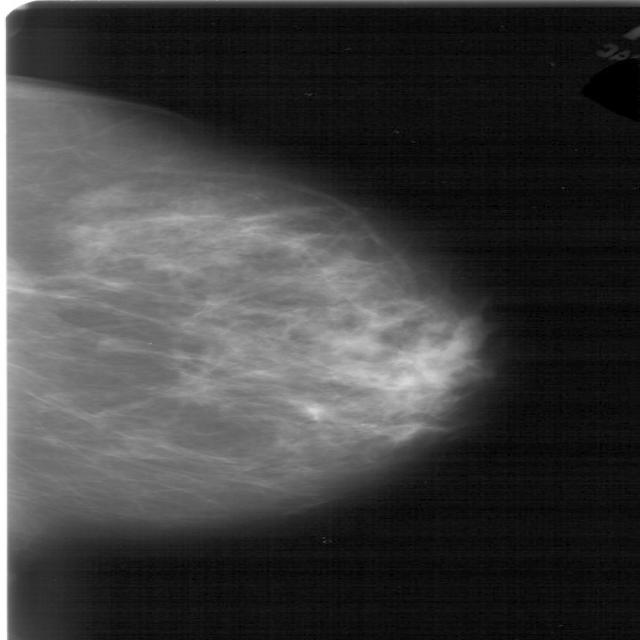tumour: (165, 374, 222, 404)
